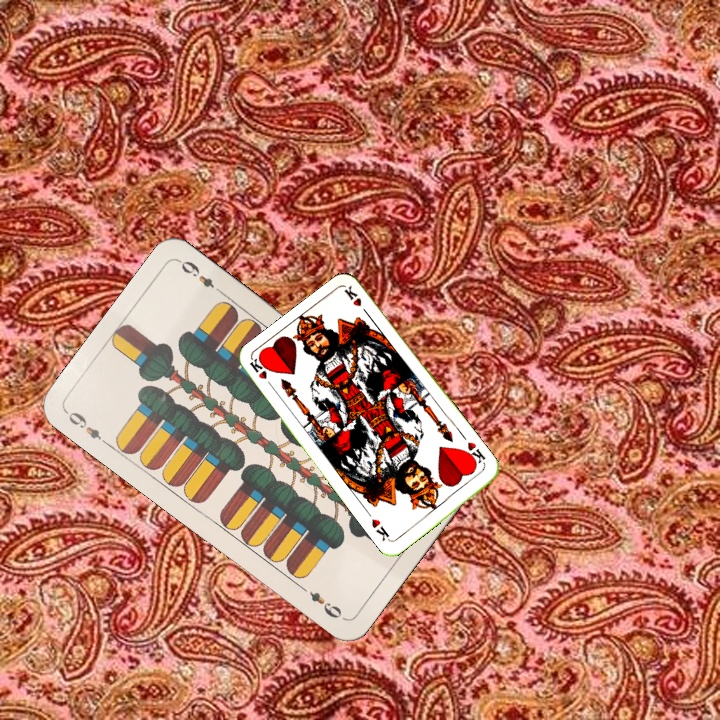E9: (62, 407, 112, 449)
HK: (246, 354, 278, 392), (460, 438, 488, 468)
